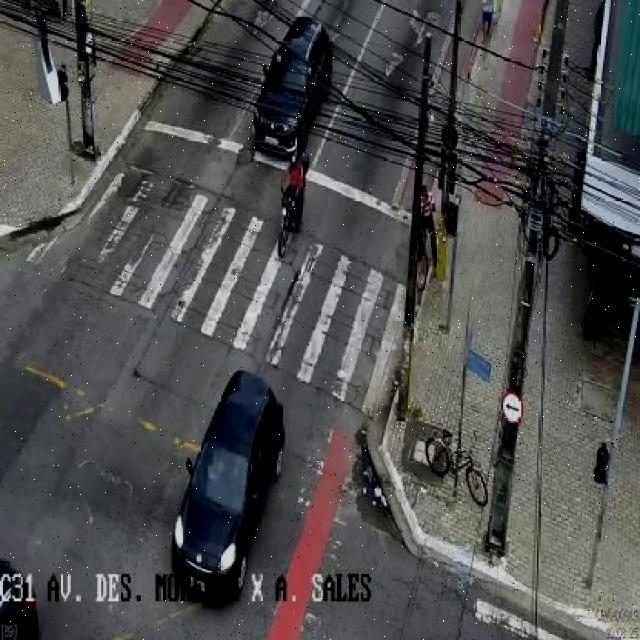Car: (168, 368, 286, 602), (250, 17, 333, 158)
Cycle: (424, 428, 491, 508), (274, 184, 301, 260)
